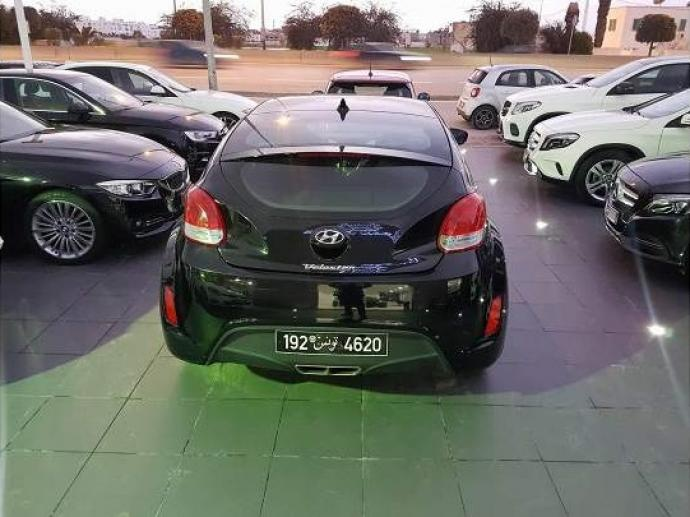LP: (273, 327, 394, 358)
